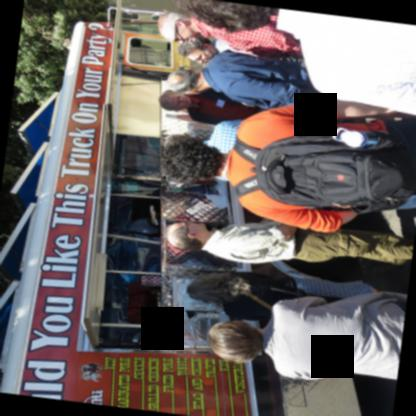backpack: (255, 125, 416, 213)
handbag: (247, 289, 274, 309)
